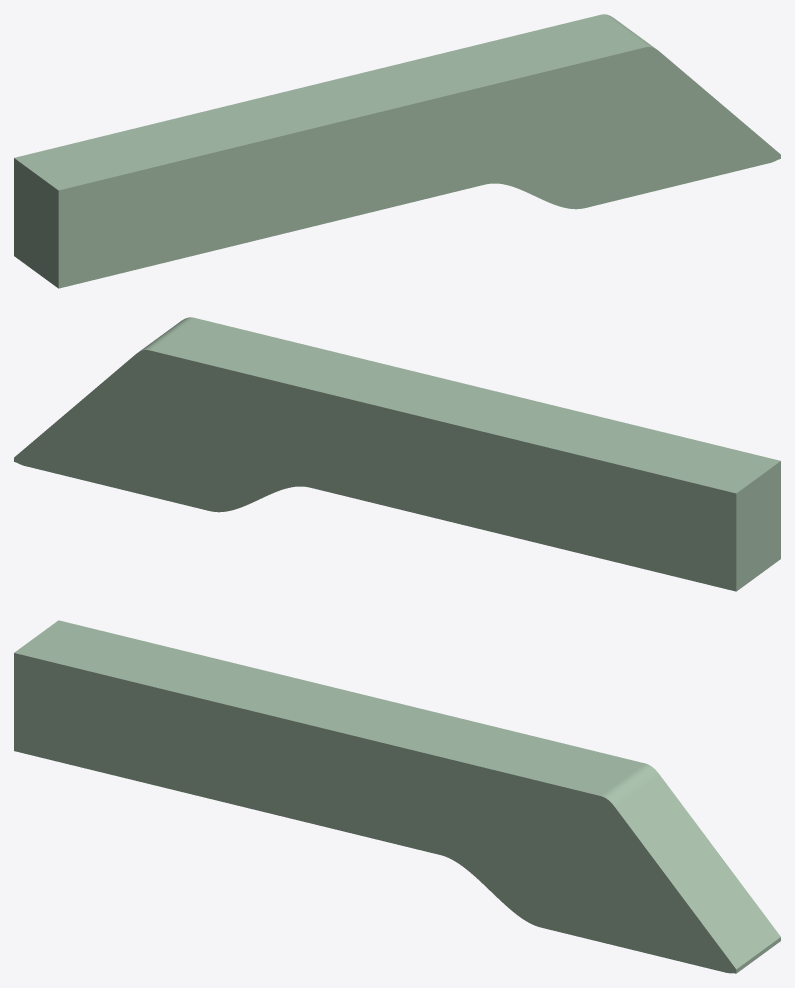
File: TOU_ANG_V002_WORK_LENGTH_candidate.glb
3 views of the same model, one above another, from view 1: azimuth 30°, elevation 25°; view 2: azimuth 150°, elevation 25°; view 3: azimuth 330°, elevation 25° (orthographic).
Visible parts, largest first — view 1: TOU_ANG_V002_WORK_LENGTH_candidate; view 2: TOU_ANG_V002_WORK_LENGTH_candidate; view 3: TOU_ANG_V002_WORK_LENGTH_candidate.
Part boxes in pixels (x1,y1,x2,y2): TOU_ANG_V002_WORK_LENGTH_candidate: [14, 14, 780, 288]; TOU_ANG_V002_WORK_LENGTH_candidate: [14, 317, 780, 591]; TOU_ANG_V002_WORK_LENGTH_candidate: [14, 620, 780, 973].
Size of the model in its own units: 1.44 by 0.2784 by 0.154.
